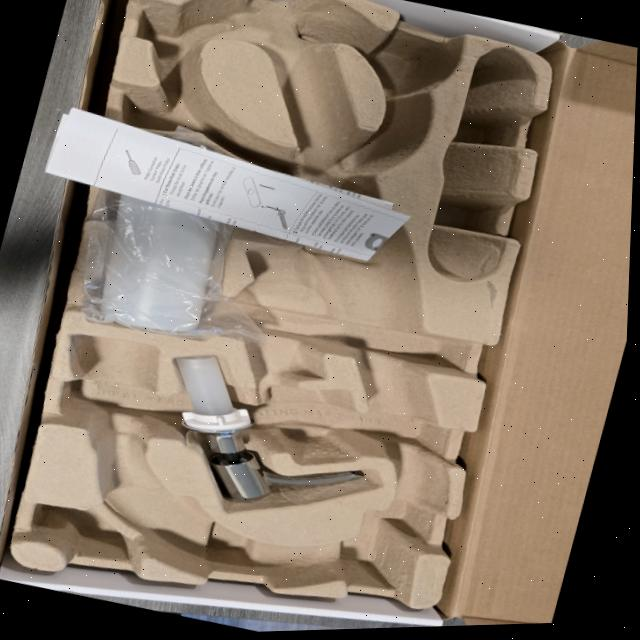1m: (71, 0, 444, 583)
2: (175, 354, 364, 498)
3o: (92, 140, 230, 334)
4m: (428, 44, 532, 279)
5m: (375, 41, 444, 91)
6m: (134, 0, 232, 67)
7m: (124, 73, 261, 150)
8: (44, 105, 410, 262)
